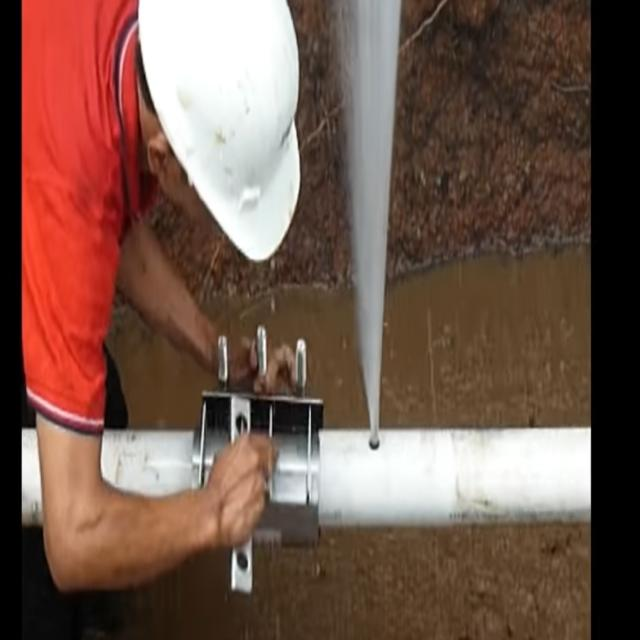leak: (339, 0, 401, 449)
